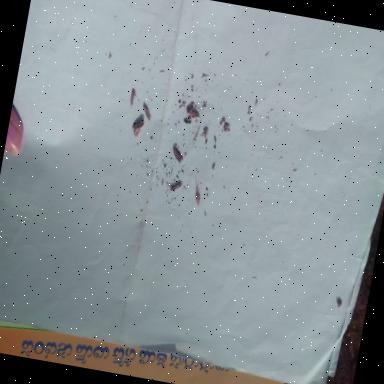pbw: (168, 144, 186, 164), (192, 184, 202, 206), (140, 104, 152, 122), (168, 182, 182, 194), (186, 110, 202, 120), (132, 119, 144, 131), (129, 90, 137, 108)
